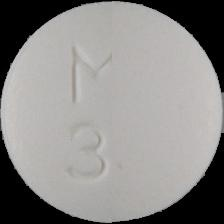21695-766: (0, 0, 224, 224)
